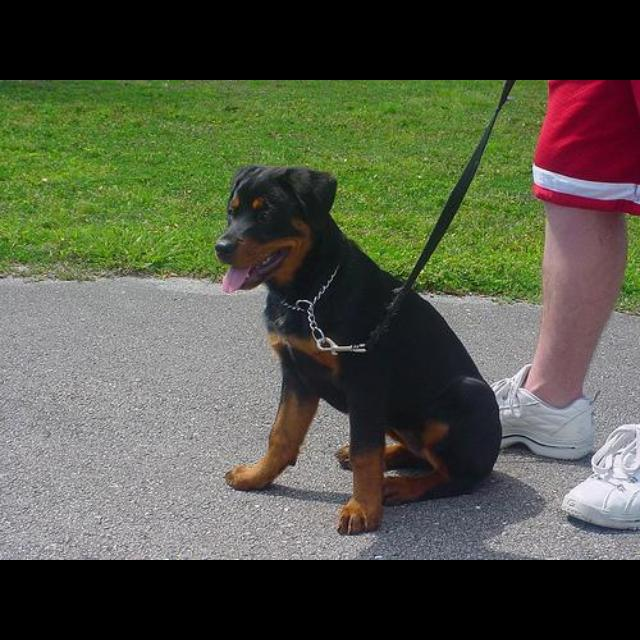person: (489, 82, 640, 535)
rottweiler: (214, 164, 503, 537)
